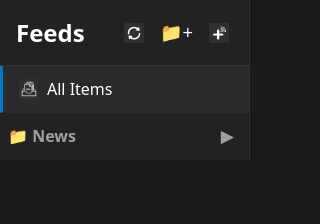
it: Sidebar › handles toggling folder expansion
Expected: the text "Feed 1" is not shown
Click to expand
What coordinates should you click on to do the following:
click the text "📁 News"
I would click on:
 (42, 136)
Its box is x1=8 y1=125 x2=76 y2=147.
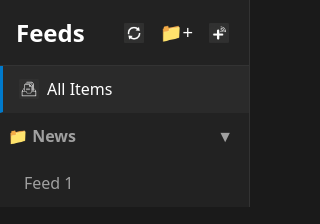
Expected: the text "Feed 1" is shown, x1=24 y1=172 x2=74 y2=194
Click to collapse
What coordinates should you click on to do the following:
click the text "📁 News"
I would click on:
 (42, 136)
Its box is x1=8 y1=125 x2=76 y2=147.
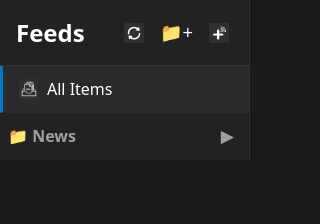
Expected: the text "Feed 1" is gone
